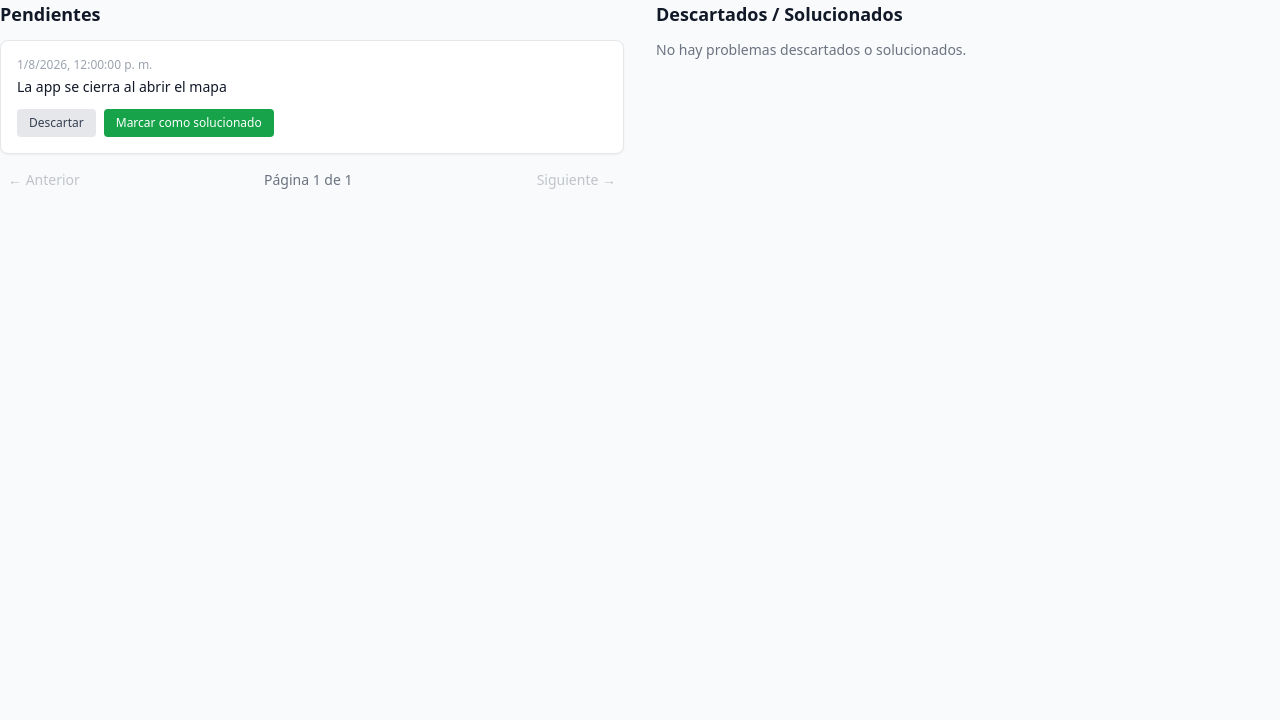
Test: ProblemasReportadosPage › un error al confirmar se muestra dentro del modal sin cerrarlo
Click the button "Descartar". click: (56, 123)
box: [17,109,96,137]
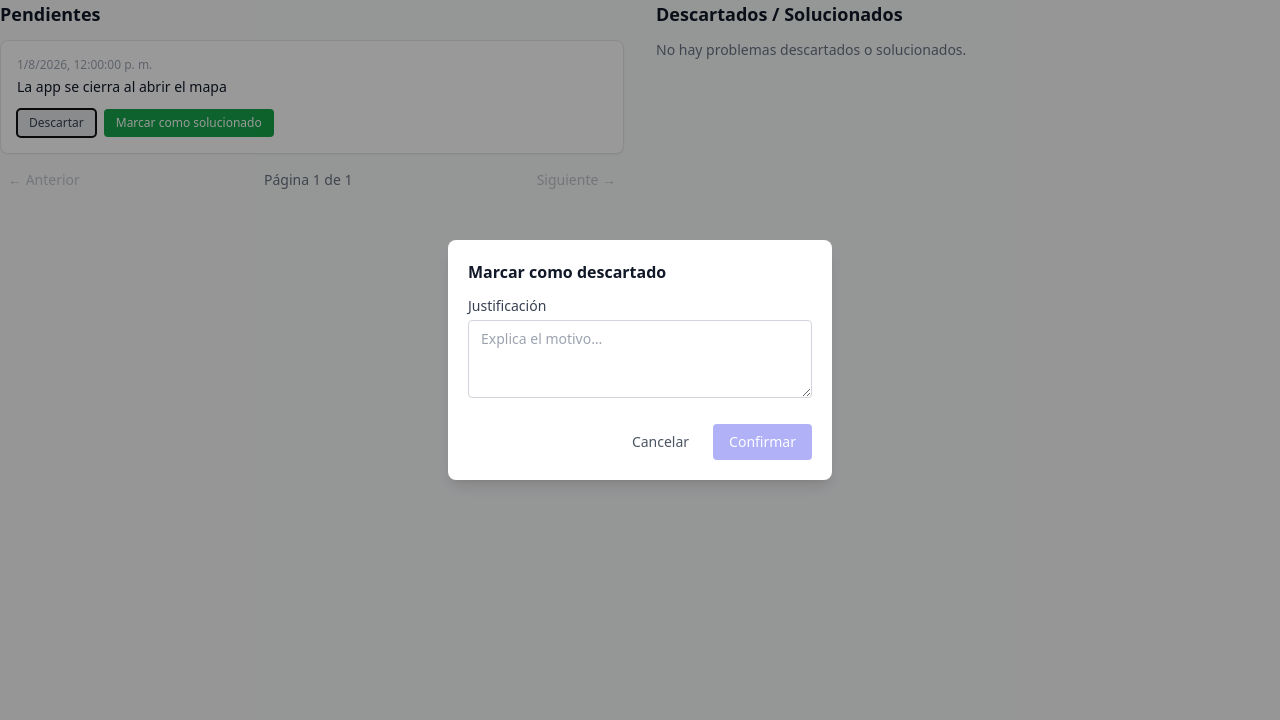
Type "motivo" into the text box with placeholder "Explica el motivo…". click: (640, 359)
box: [468,320,812,398]
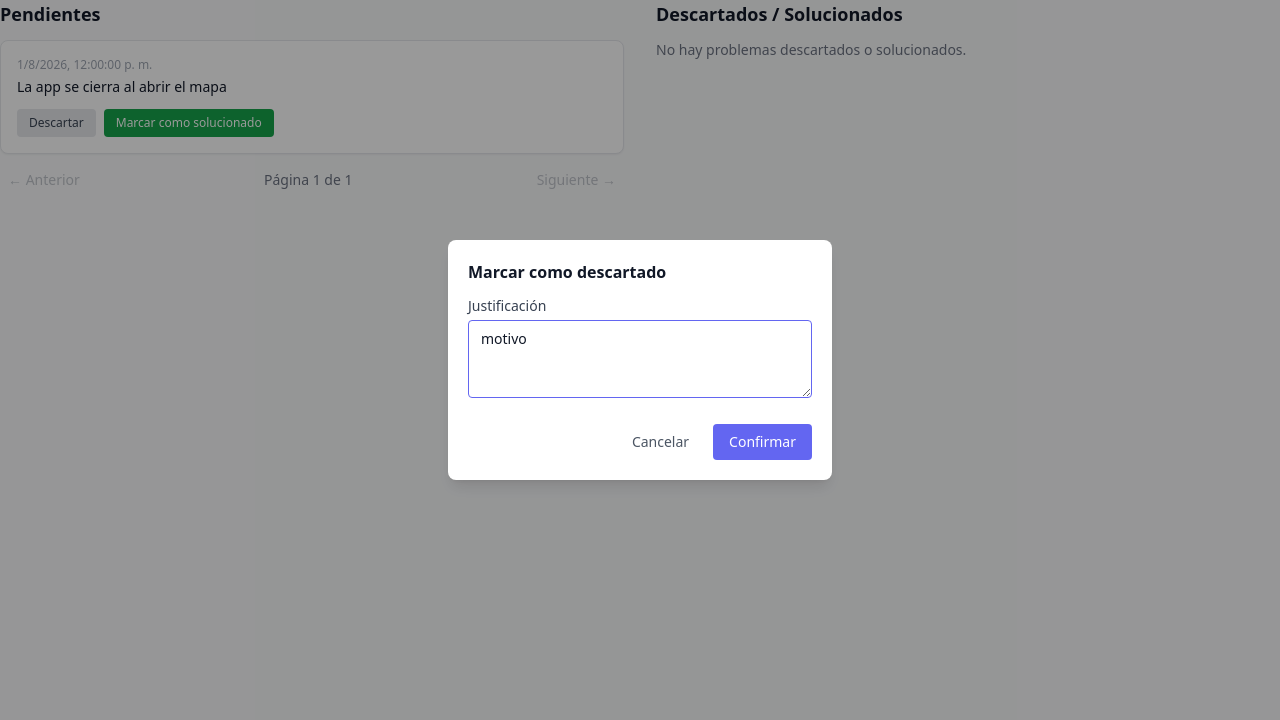
Click the button "Confirmar". click: (763, 442)
box: [713,424,812,460]
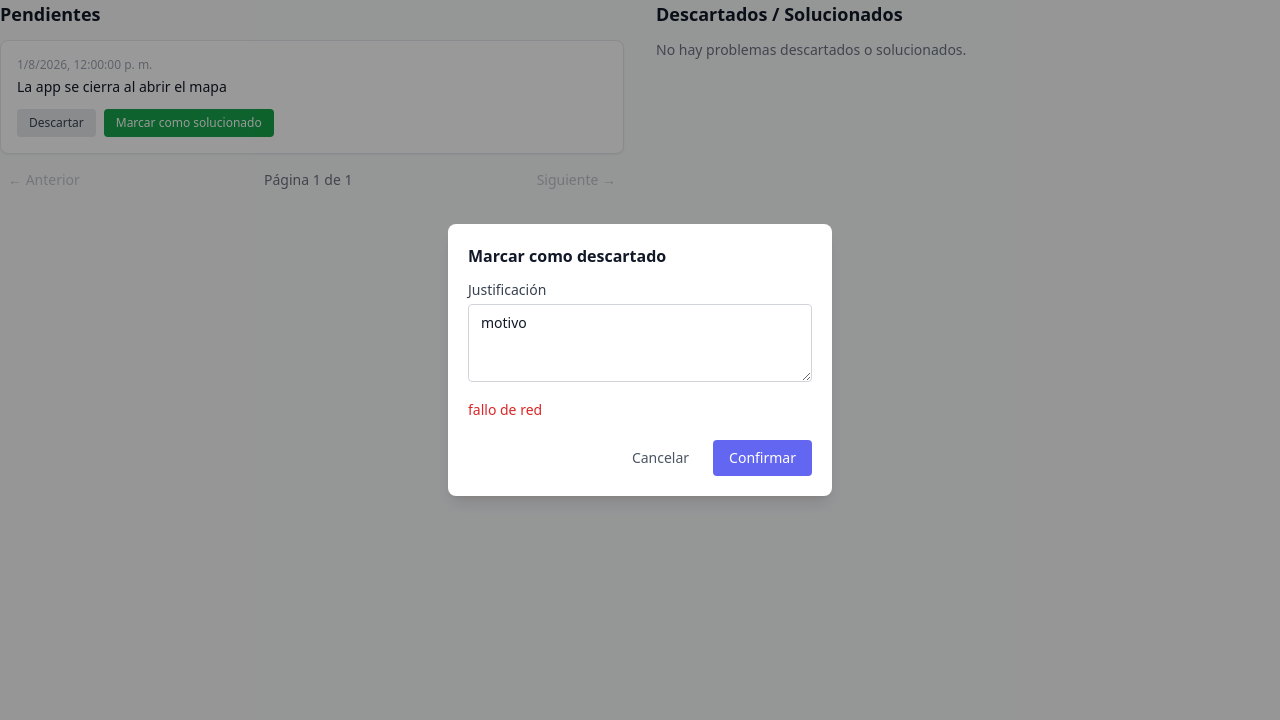
Now the text "fallo de red" is shown, box [468,400,542,419]
